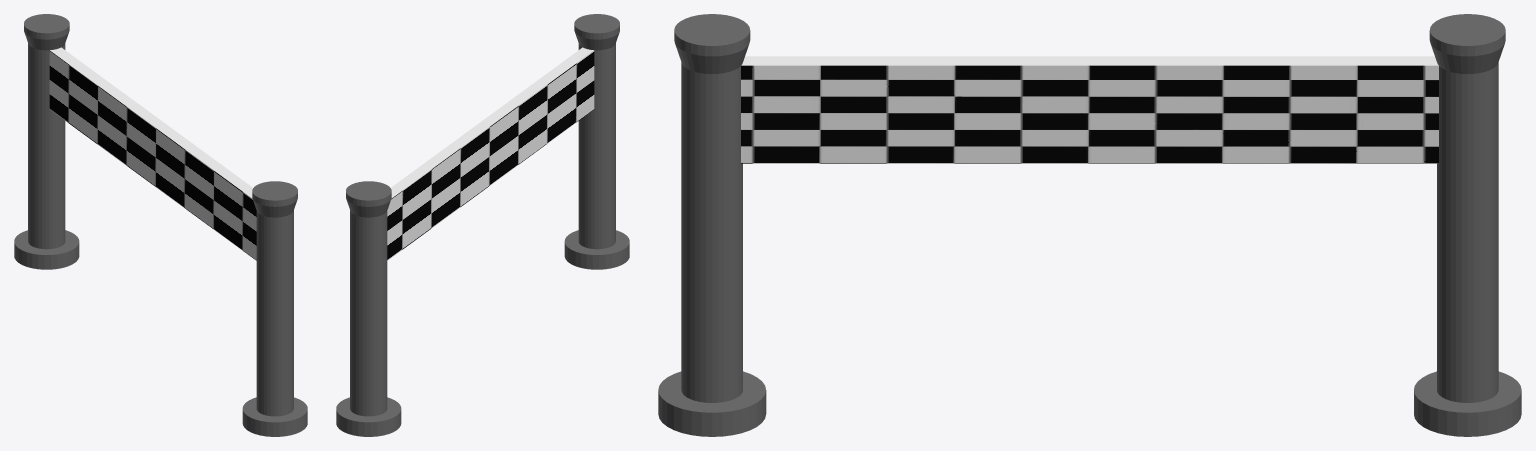
Rendered from ModeloInicio.fbx.
3 views of the same model, side by side, from view 1: azimuth 30°, elevation 25°; view 2: azimuth 150°, elevation 25°; view 3: azimuth 270°, elevation 25° (orthographic). The views are drawn at different scales.
Visible parts, largest first — view 1: Cubo; view 2: Cubo; view 3: Cubo.
Boxes of the visible parts, x1,y1,x2,y2 form: Cubo: (14, 14, 307, 436); Cubo: (336, 14, 629, 436); Cubo: (658, 14, 1521, 436).
Bounding box in the file's own units: 434 × 1707 × 3477.
2 materials, 1 textured.
